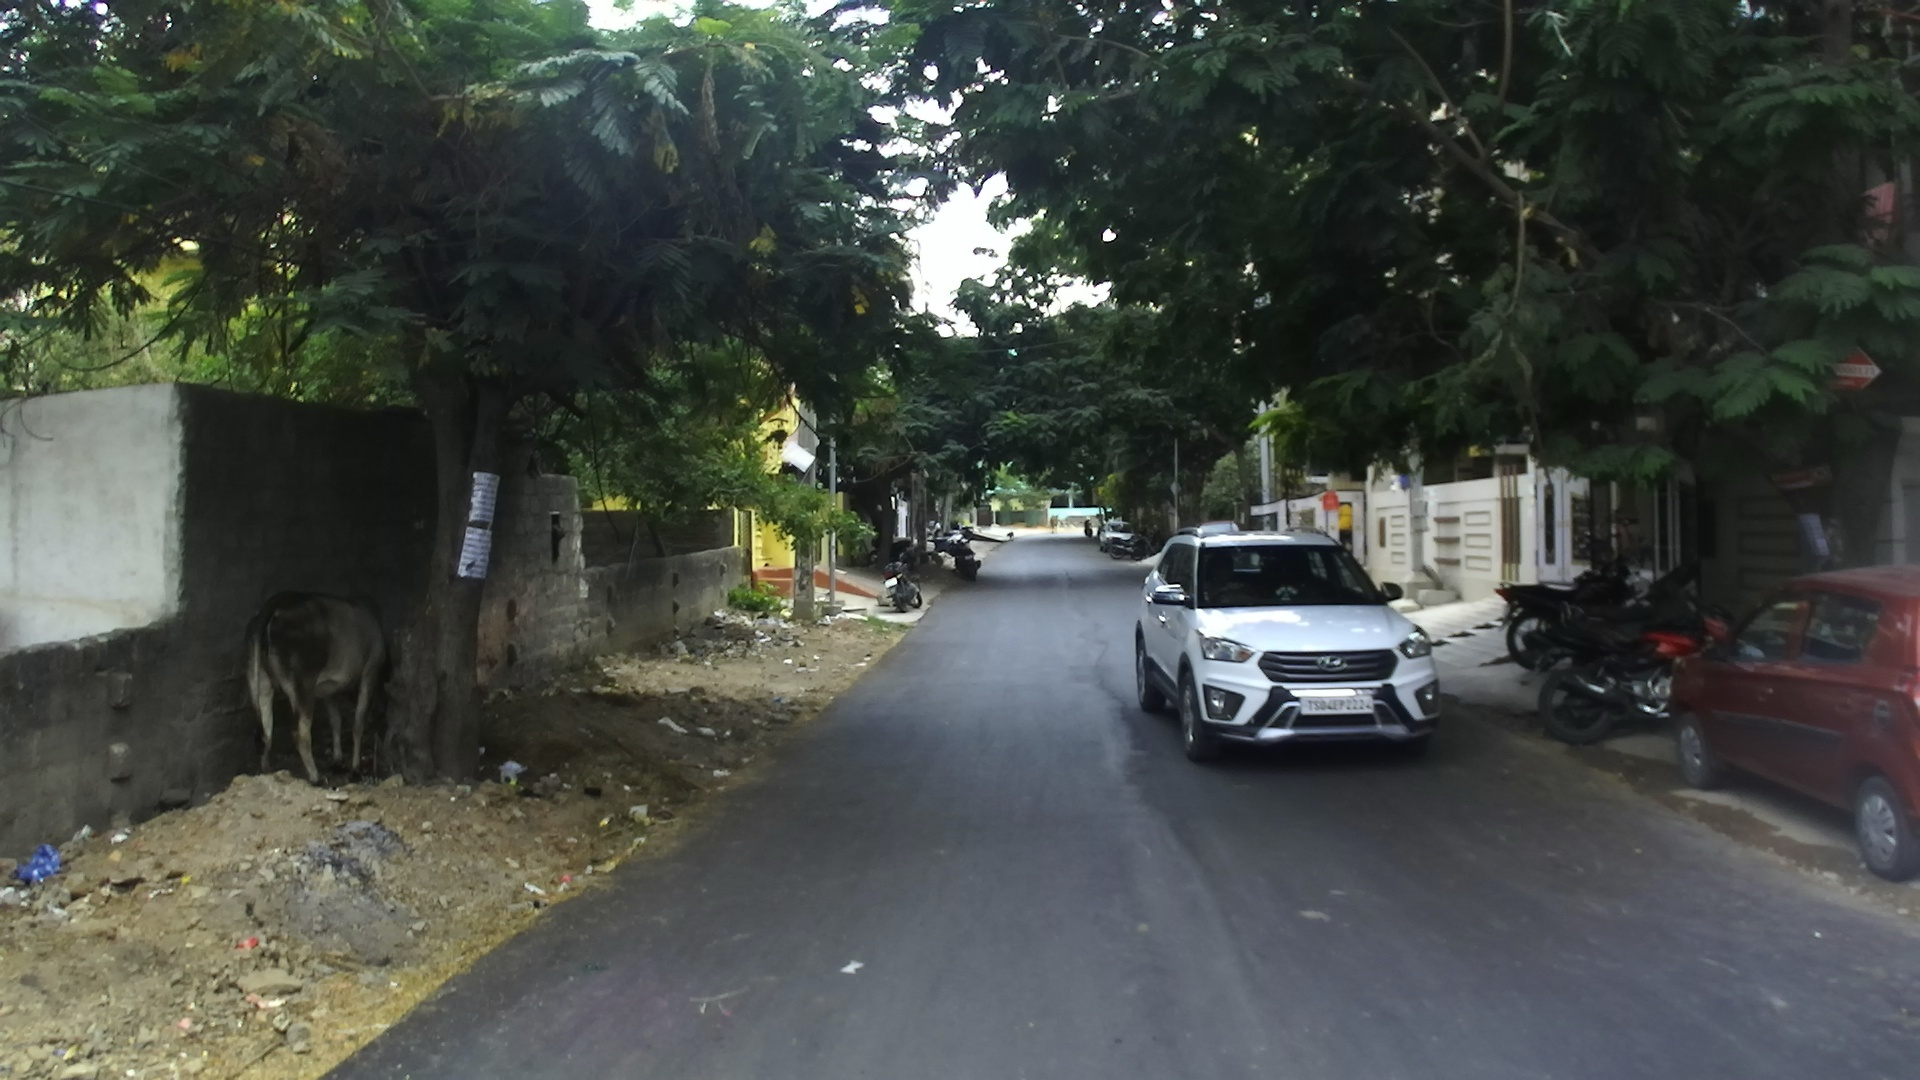vehicle: (1663, 564, 1917, 881), (1135, 526, 1444, 760), (1503, 560, 1727, 735), (1507, 562, 1726, 738), (1501, 560, 1721, 686), (931, 527, 980, 576), (1096, 524, 1141, 558)
